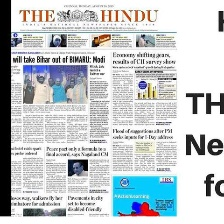news_paper: (8, 0, 177, 217)
